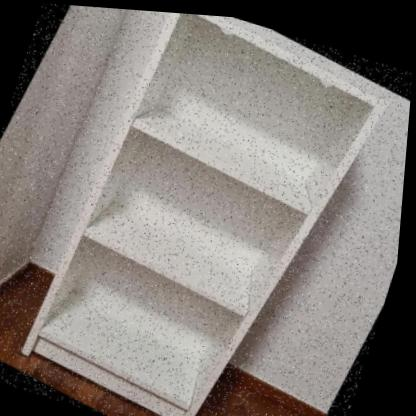Shelf: (0, 0, 406, 416)
